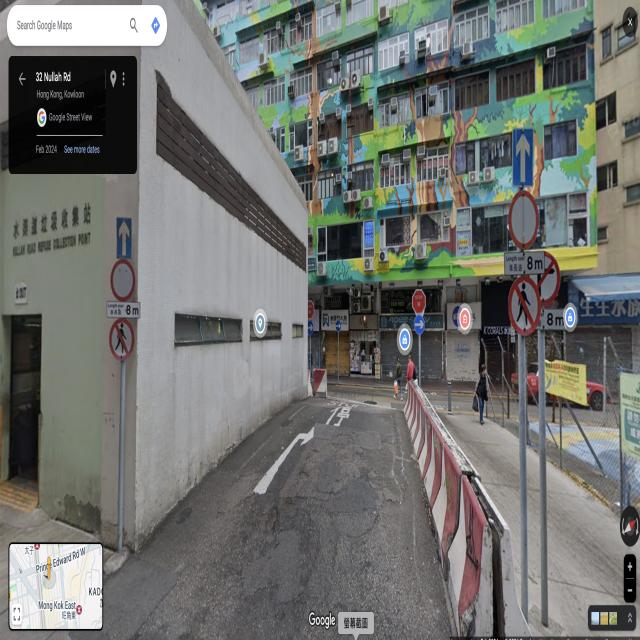Direction-Sign: (513, 126, 533, 186)
Order-Sign: (508, 275, 540, 335), (508, 190, 538, 250), (109, 318, 134, 361), (112, 260, 134, 300), (412, 289, 425, 314), (414, 316, 425, 334)
Street-Direction-Sign: (116, 216, 131, 258)
